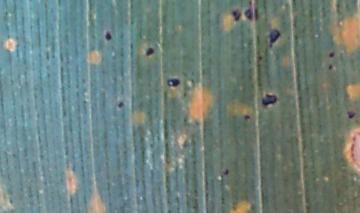tarspot: (269, 27, 280, 47), (262, 93, 277, 107), (167, 77, 180, 88), (232, 9, 242, 22), (245, 8, 254, 21), (347, 108, 357, 119), (145, 47, 155, 57), (104, 31, 112, 41), (242, 113, 251, 121), (255, 8, 260, 21), (117, 100, 124, 109), (328, 51, 335, 58), (257, 55, 264, 61), (224, 168, 229, 176), (328, 63, 333, 71), (248, 1, 254, 7)
